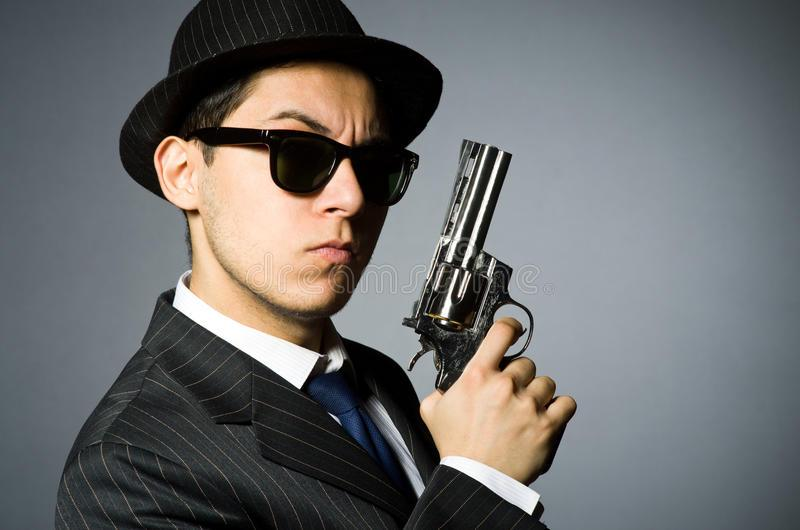criminal: (53, 0, 579, 530)
weapon: (400, 137, 537, 395)
